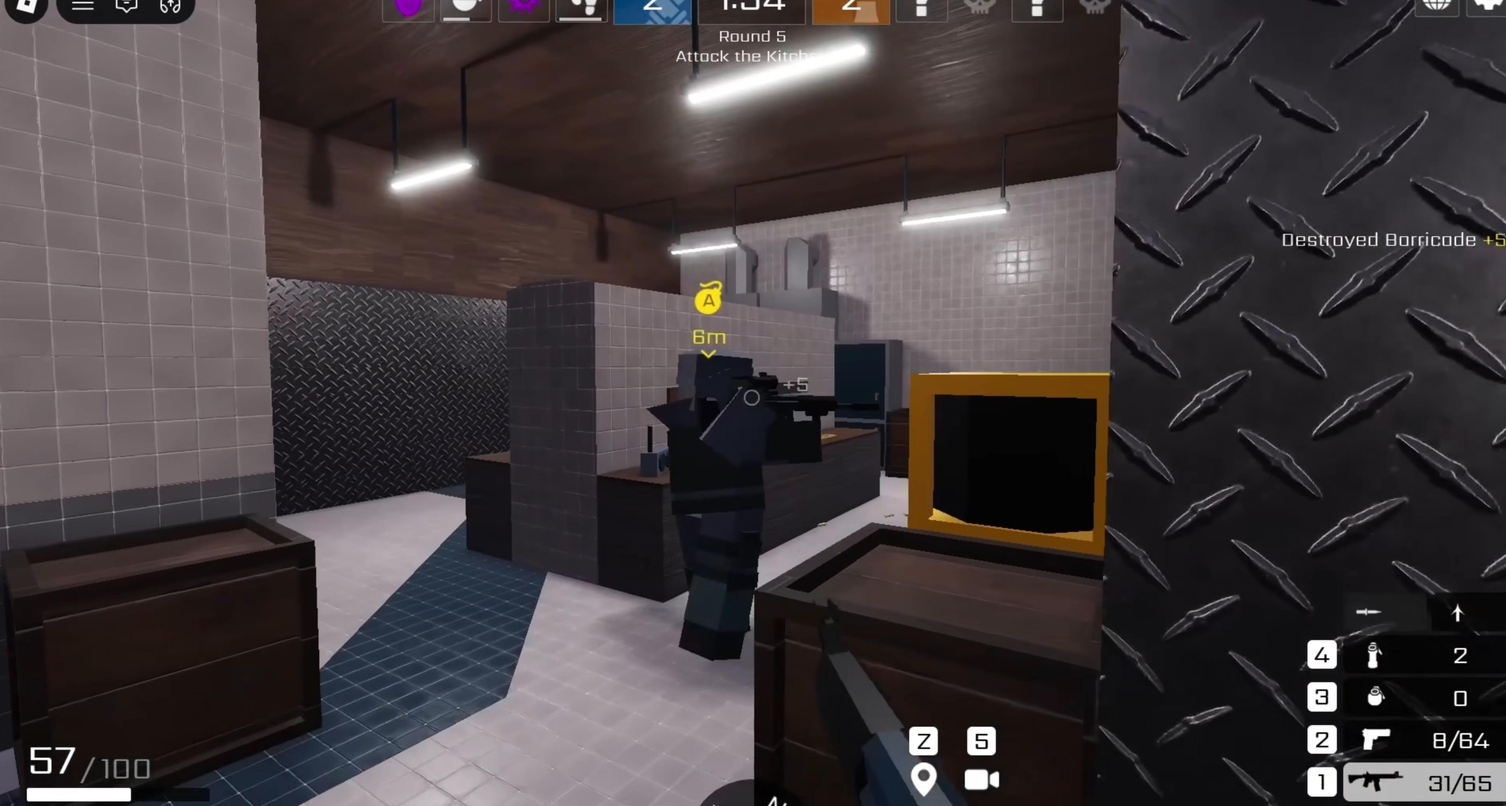enemy: (642, 348, 829, 673)
